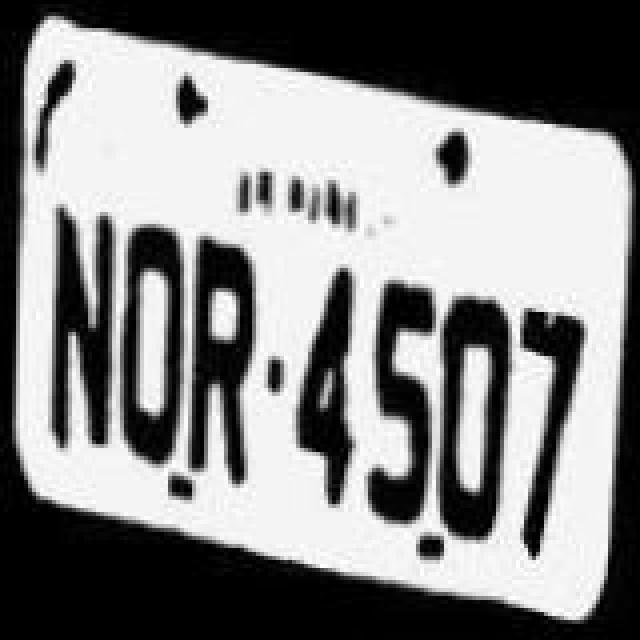4: (284, 258, 364, 518)
5: (360, 262, 440, 526)
7: (514, 284, 598, 560)
N: (36, 188, 120, 468)
O: (436, 260, 516, 540), (116, 208, 192, 472)
R: (190, 220, 270, 484)
